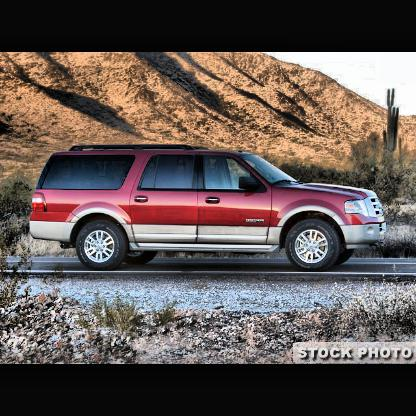Ford Expedition EL SUV 2009: (30, 144, 389, 276)
